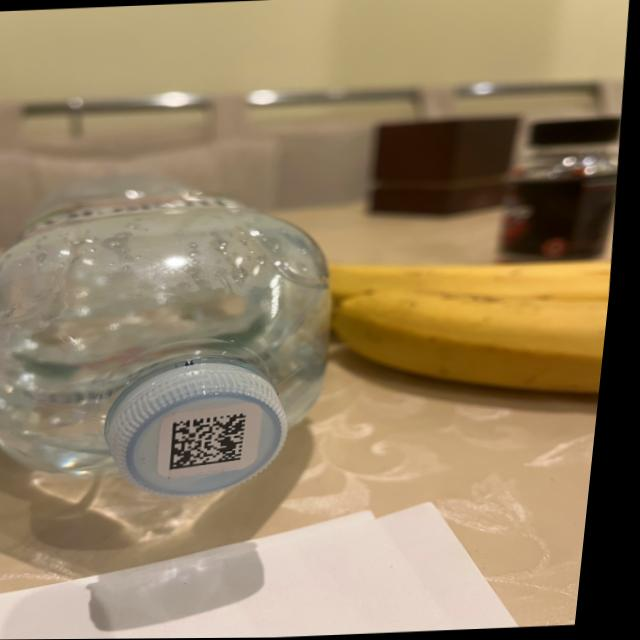datamatrix: (178, 414, 258, 471)
